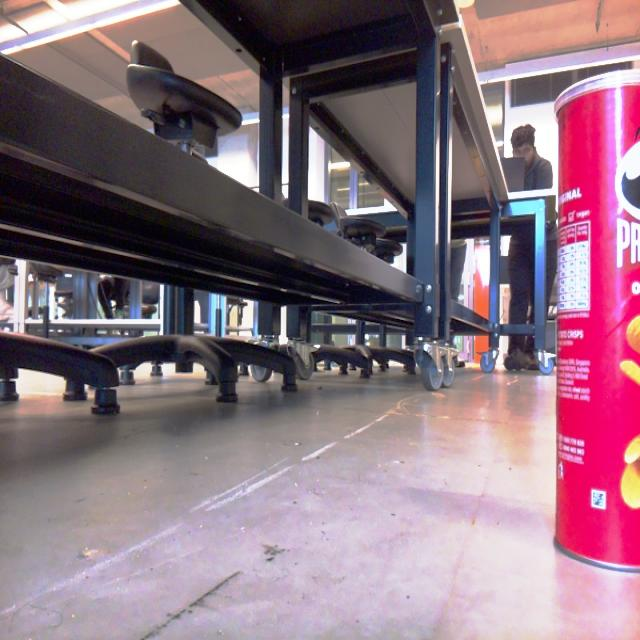redpringles: (526, 63, 640, 588)
